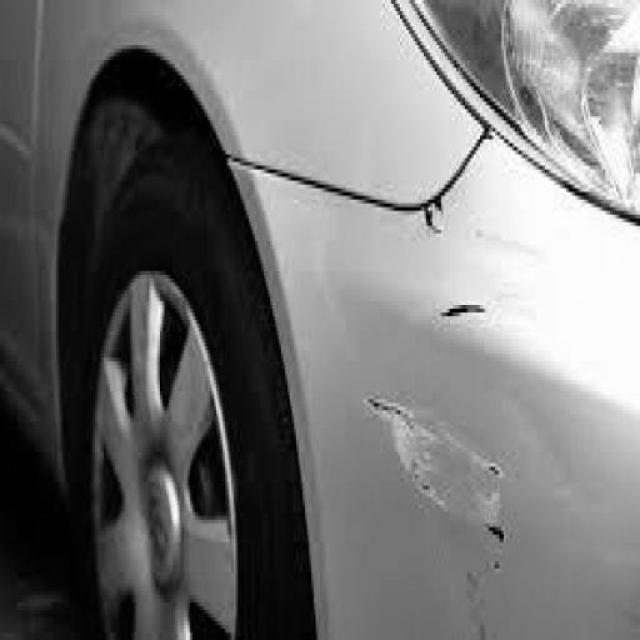scratch: (361, 399, 510, 550), (439, 301, 493, 320)
